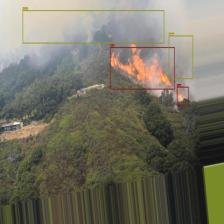fire: (110, 47, 175, 89), (176, 86, 188, 106)
smoke: (23, 10, 164, 44), (169, 35, 193, 79)
